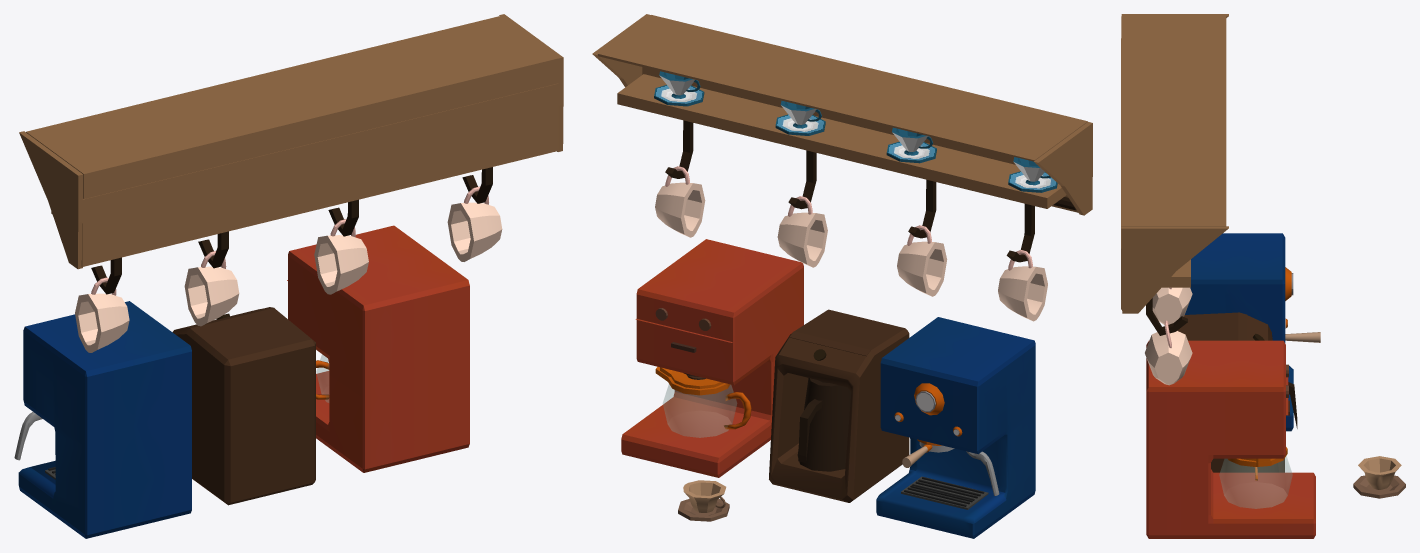
The model's file is kahvekösesi.fbx.
3 views of the same model, side by side, from view 1: azimuth 30°, elevation 25°; view 2: azimuth 150°, elevation 25°; view 3: azimuth 270°, elevation 25° (orthographic). The views are drawn at different scales.
Parts seen in each view (by area): view 1: Cube.057, Circle.006, Cube.026, Cube.024, Circle.018, Circle.020, Circle.019, Circle.017; view 2: Cube.057, Circle.006, Cube.026, Cube.024, Circle.004, Cube.025, Circle.019, Circle.020, Circle.018, Circle.017, Cube.029, Circle.024 (+10 smaller); view 3: Cube.057, Circle.006, Cube.026, Circle.004, Cube.024, Circle.017, Circle.018, Circle, Circle.021, Cube.061.
Boxes of the visible parts, bbox=[...] form: Cube.057: bbox=[19, 14, 563, 269]; Circle.006: bbox=[287, 225, 469, 472]; Cube.026: bbox=[18, 301, 191, 538]; Cube.024: bbox=[172, 307, 315, 505]; Circle.018: bbox=[314, 219, 368, 294]; Circle.020: bbox=[75, 277, 129, 352]; Circle.019: bbox=[184, 251, 239, 326]; Circle.017: bbox=[447, 186, 502, 261]; Cube.057: bbox=[592, 14, 1092, 215]; Circle.006: bbox=[621, 239, 803, 477]; Cube.026: bbox=[876, 317, 1035, 538]; Cube.024: bbox=[769, 309, 909, 502]; Circle.004: bbox=[655, 366, 751, 437]; Cube.025: bbox=[797, 378, 851, 471]; Circle.019: bbox=[897, 225, 947, 296]; Circle.020: bbox=[998, 250, 1047, 321]; Circle.018: bbox=[777, 196, 827, 267]; Circle.017: bbox=[655, 166, 705, 237]; Cube.029: bbox=[901, 476, 988, 509]; Circle.024: bbox=[886, 127, 936, 163]; Cube.057: bbox=[1121, 14, 1228, 313]; Circle.006: bbox=[1146, 340, 1315, 538]; Cube.026: bbox=[1185, 233, 1293, 431]; Circle.004: bbox=[1219, 447, 1292, 508]; Cube.024: bbox=[1177, 312, 1284, 472]; Circle.017: bbox=[1145, 320, 1192, 385]; Circle.018: bbox=[1152, 287, 1192, 324]; Circle: bbox=[1358, 456, 1401, 489]; Circle.021: bbox=[1353, 475, 1405, 498]; Cube.061: bbox=[1146, 298, 1187, 335].
Size of the model in its own units: 212 by 164 by 119.
2 materials, 1 textured.
